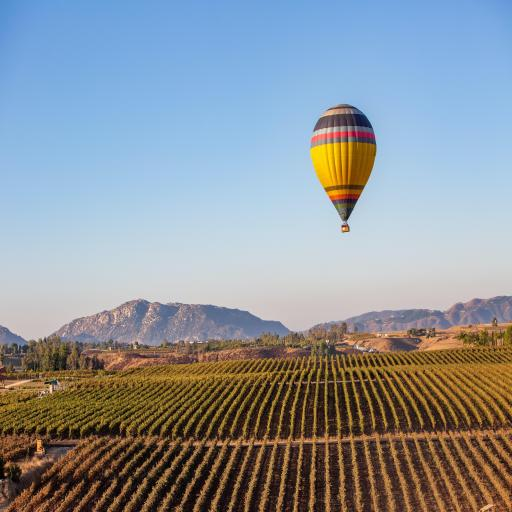hot air ballon: (308, 99, 378, 235)
